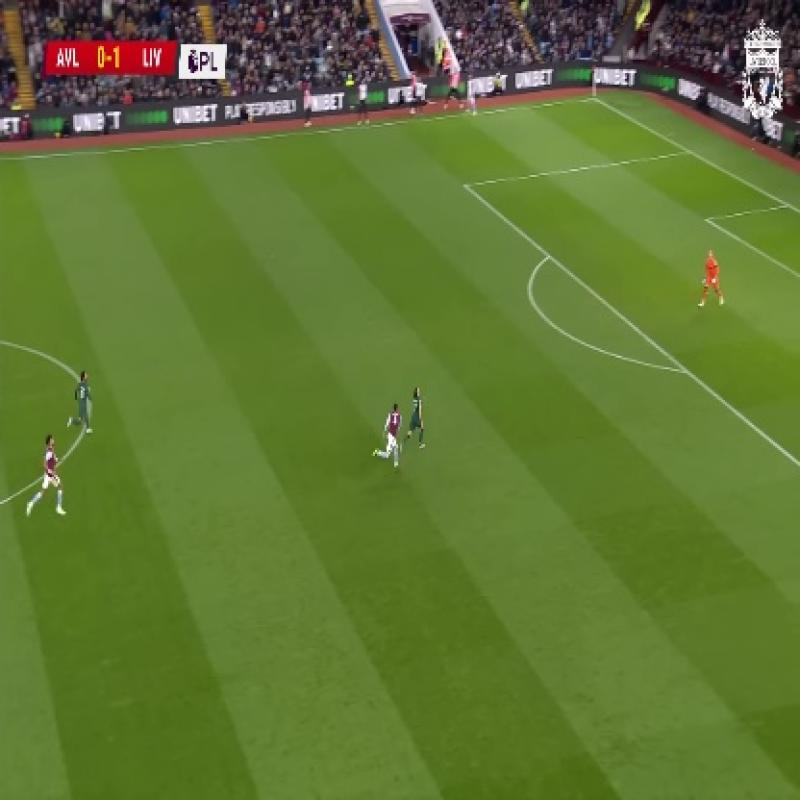1: (581, 90, 602, 106)
10: (538, 242, 556, 266)
11: (675, 356, 694, 381)
2: (678, 140, 696, 160)
3: (777, 192, 796, 216)
7: (696, 208, 714, 229)
9: (456, 173, 473, 196)
c: (70, 383, 104, 417)
